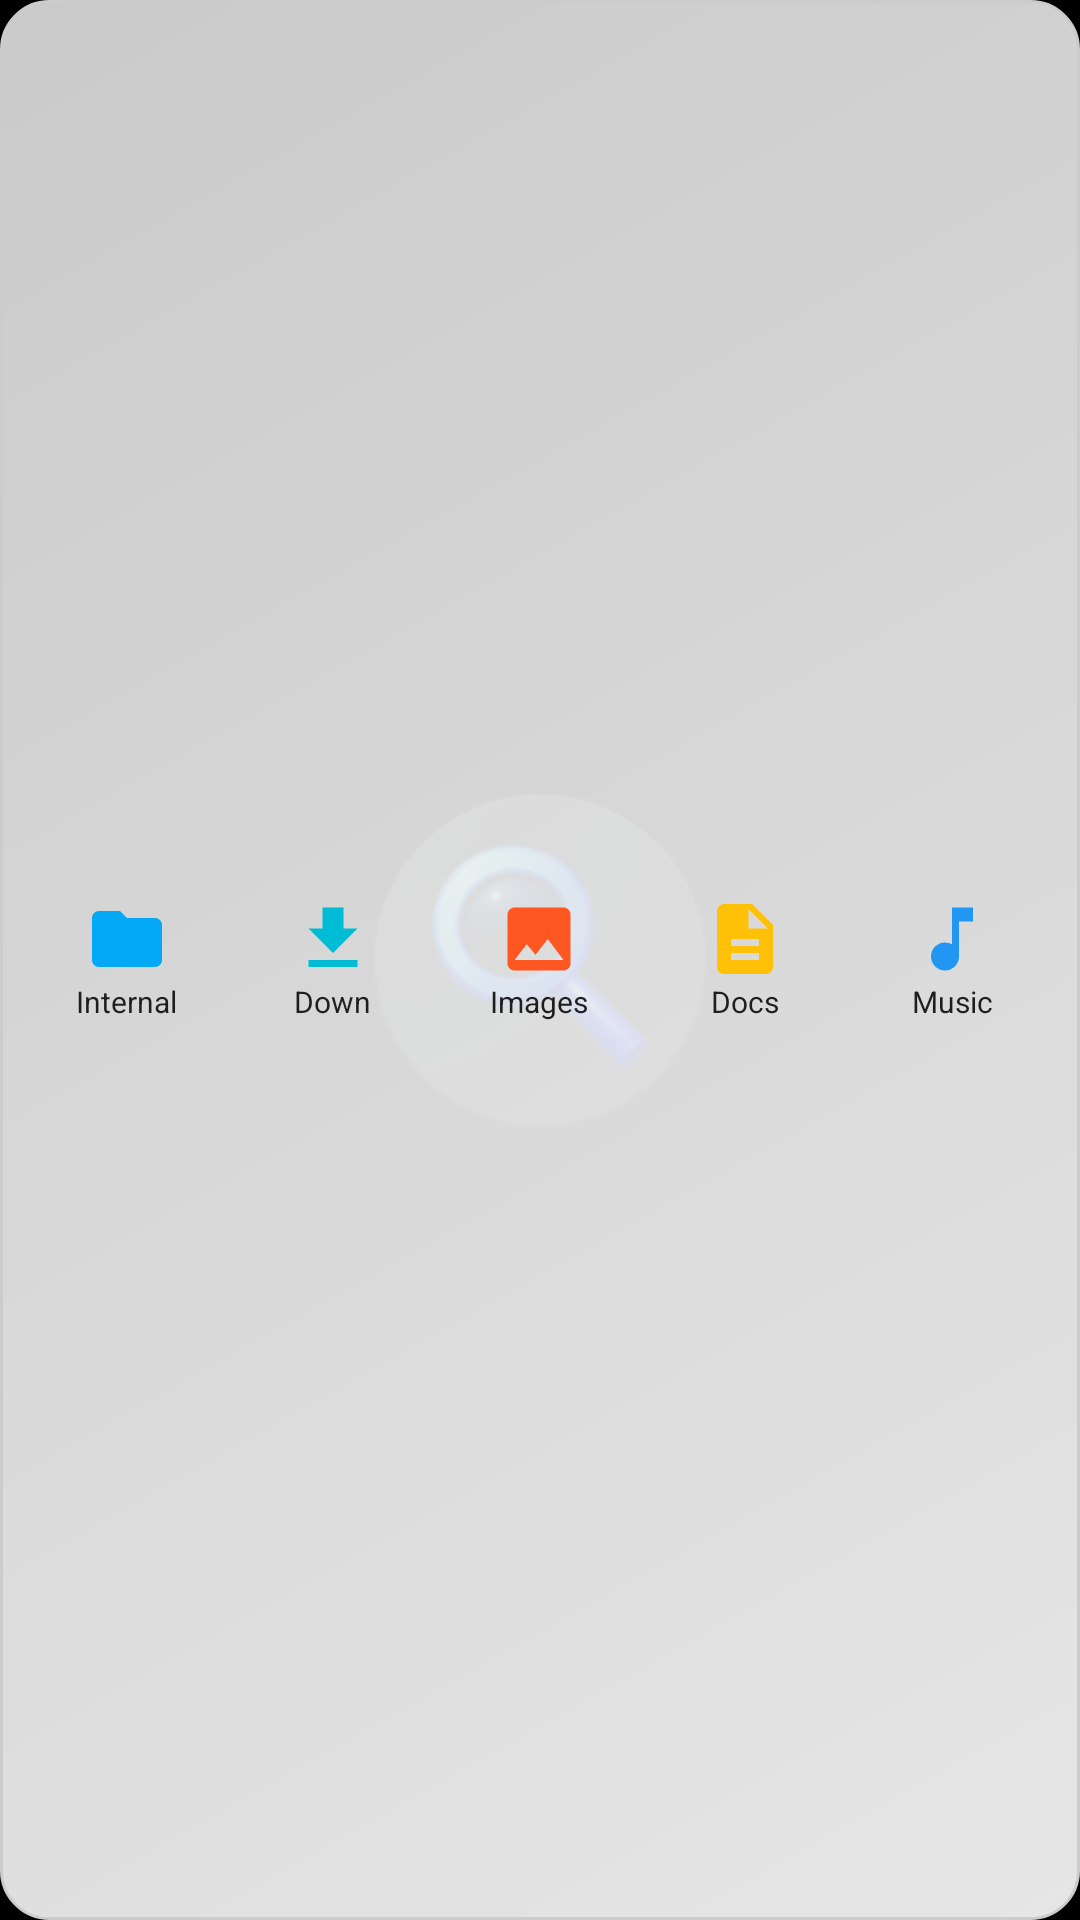

Icons on this 1080 × 1920 Android screen, each with its box as region(x1, y1, x2, y2):
widget folder: region(92, 911, 162, 967)
